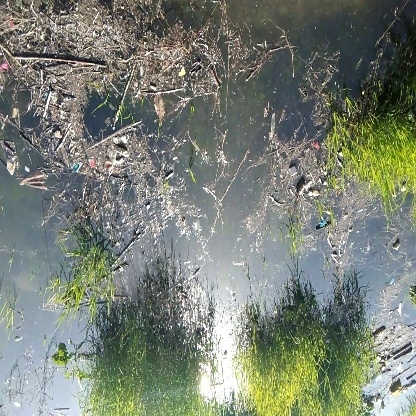branch: (15, 45, 115, 75)
